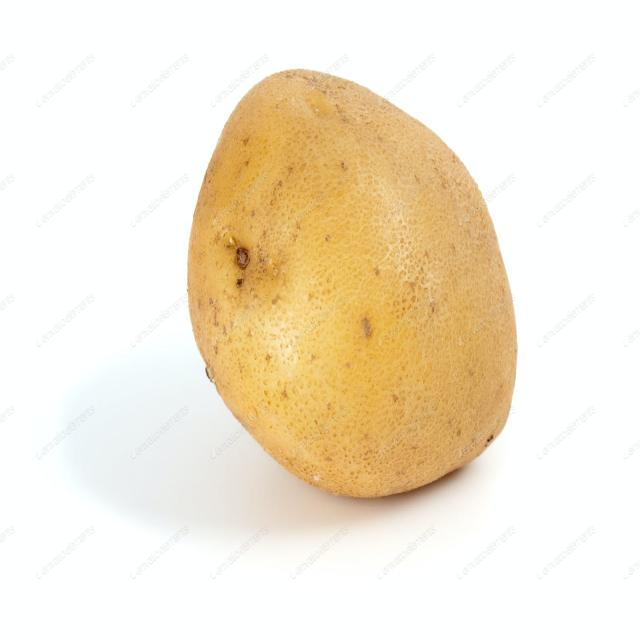potato: (186, 70, 518, 497)
